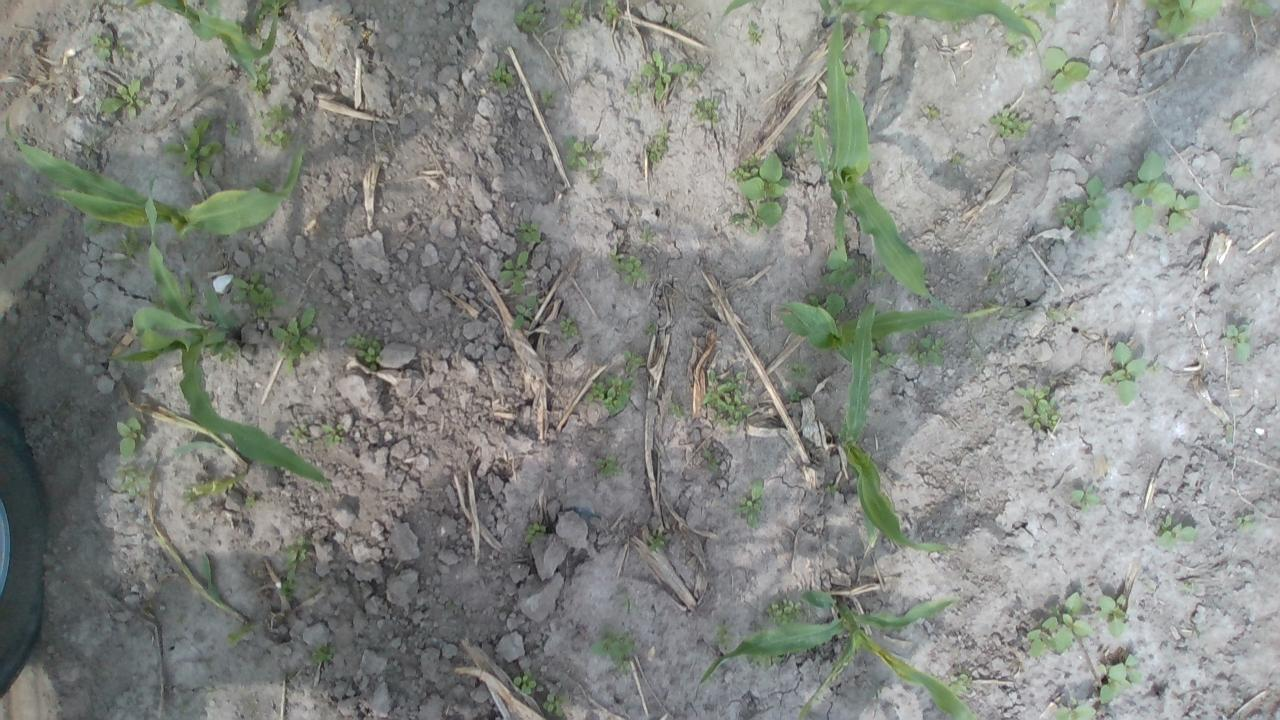Maize: (105, 238, 332, 492), (811, 13, 986, 320), (4, 113, 306, 242), (696, 589, 979, 720), (827, 298, 965, 556), (711, 0, 1047, 75), (772, 301, 1004, 368), (128, 0, 278, 86)
Weeds: (1122, 150, 1202, 234), (1026, 592, 1094, 658), (740, 152, 790, 229), (1055, 174, 1110, 242), (163, 118, 223, 178), (700, 370, 754, 434), (272, 306, 324, 371), (1099, 340, 1147, 407), (1144, 0, 1224, 39), (1006, 0, 1066, 43), (1098, 652, 1142, 705), (232, 274, 286, 317), (1044, 47, 1090, 96), (584, 374, 634, 417), (1015, 385, 1060, 432), (588, 630, 636, 674), (643, 50, 685, 100), (278, 538, 312, 599), (98, 79, 146, 120), (258, 105, 296, 150), (1094, 592, 1128, 640), (1154, 515, 1198, 551), (733, 480, 765, 528), (989, 108, 1033, 140), (854, 18, 890, 56), (821, 250, 857, 288), (115, 416, 146, 459), (346, 334, 382, 371), (499, 251, 529, 294), (1220, 323, 1252, 362), (908, 334, 945, 367), (115, 465, 152, 496), (91, 35, 134, 61), (765, 598, 804, 626), (253, 0, 292, 27), (644, 124, 670, 163), (514, 2, 544, 35), (1054, 697, 1096, 720), (872, 340, 900, 374), (512, 295, 537, 331), (250, 60, 274, 97), (488, 58, 514, 92), (564, 136, 590, 170), (1071, 483, 1100, 513), (810, 292, 846, 316), (117, 229, 146, 258), (620, 256, 647, 284), (560, 1, 584, 32), (691, 96, 720, 121), (83, 217, 119, 237), (728, 160, 760, 182), (712, 620, 736, 648), (513, 668, 537, 696), (594, 455, 624, 477), (1236, 0, 1272, 18), (732, 212, 761, 234), (948, 668, 972, 694), (786, 131, 813, 154), (543, 693, 567, 718), (310, 642, 337, 664), (1230, 156, 1254, 180), (2, 192, 24, 218), (516, 222, 542, 244), (806, 100, 826, 128), (321, 424, 344, 448), (624, 349, 644, 374), (524, 523, 547, 544), (701, 447, 720, 472), (626, 76, 648, 97), (647, 529, 666, 553), (558, 318, 578, 340), (685, 61, 704, 84), (988, 265, 1011, 284), (1235, 514, 1259, 532), (752, 655, 782, 669), (1226, 115, 1248, 134), (184, 278, 198, 306), (290, 424, 310, 443), (538, 88, 556, 109), (217, 346, 240, 362), (603, 0, 619, 22), (788, 363, 811, 378), (748, 21, 762, 45), (255, 179, 277, 194), (1008, 43, 1026, 60), (667, 403, 686, 419), (638, 228, 656, 244), (279, 666, 296, 682), (608, 250, 625, 266), (788, 387, 806, 402), (150, 296, 168, 310), (642, 323, 658, 338), (924, 106, 940, 121), (586, 170, 602, 184), (844, 65, 858, 81), (1148, 359, 1162, 375), (88, 309, 106, 320), (226, 122, 240, 136), (824, 484, 840, 496), (310, 580, 322, 596), (1183, 582, 1197, 595), (869, 270, 885, 280), (951, 154, 964, 166), (1226, 424, 1234, 443), (245, 496, 256, 508), (623, 600, 633, 613), (594, 150, 604, 159), (585, 74, 594, 83)
